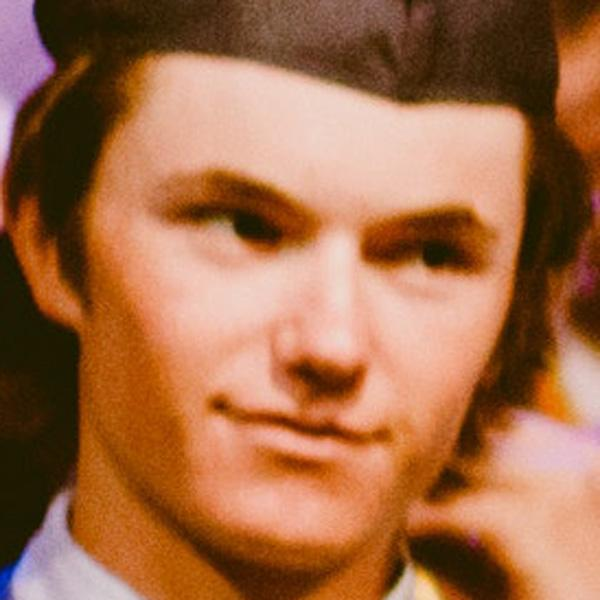Eyes: (178, 189, 287, 262), (372, 216, 476, 288)
